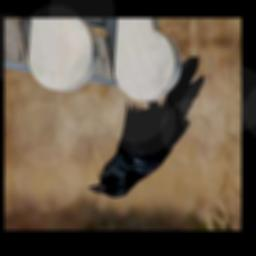Crow: (87, 55, 205, 198)
